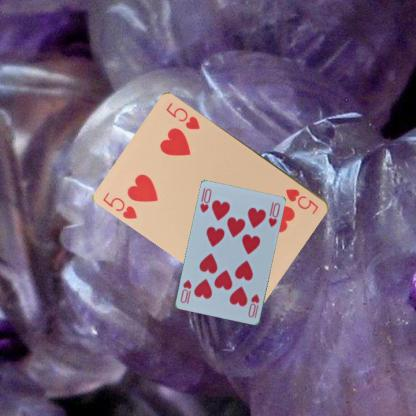10h: (245, 292, 260, 319), (198, 186, 212, 214)
5h: (100, 190, 138, 220), (283, 186, 320, 216)
